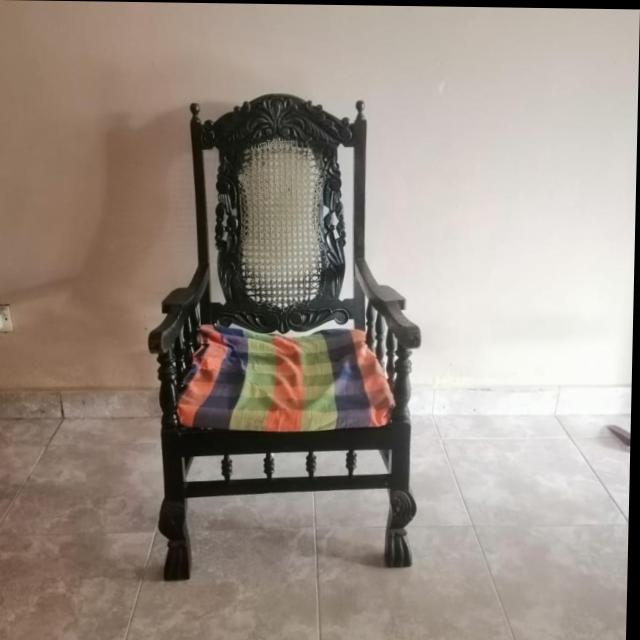Chair: (141, 89, 430, 585)
